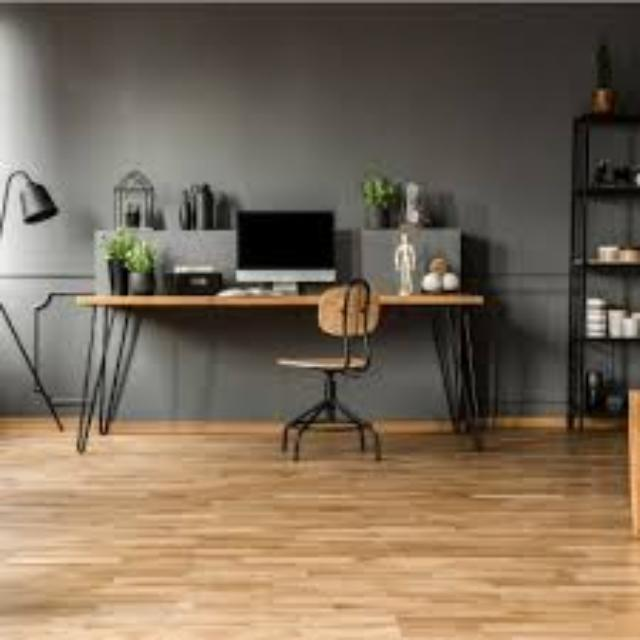obstacle: (257, 273, 423, 479)
